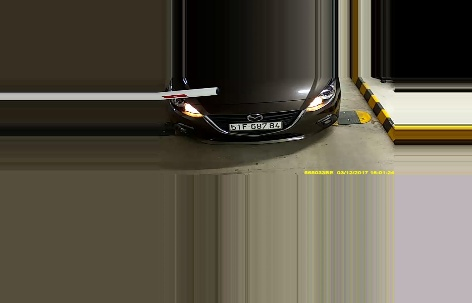plate: (227, 119, 288, 134)
